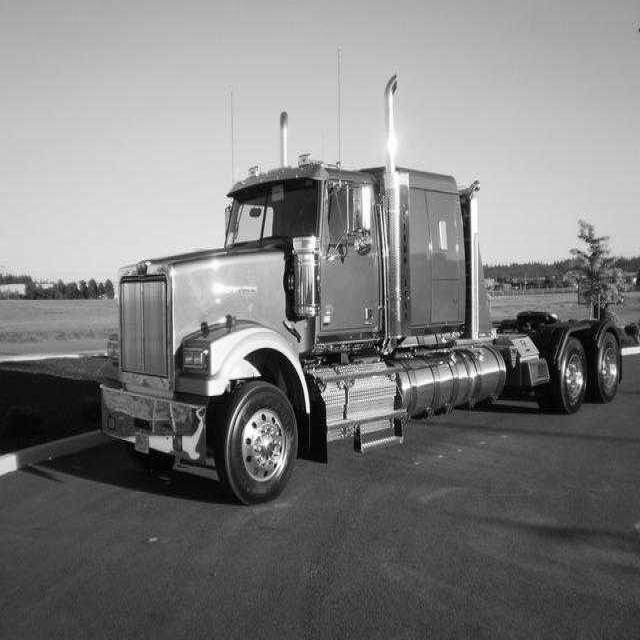Truck: (100, 79, 622, 502)
